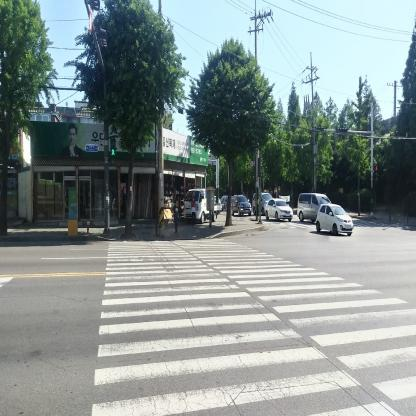Green: (110, 138, 116, 164)
